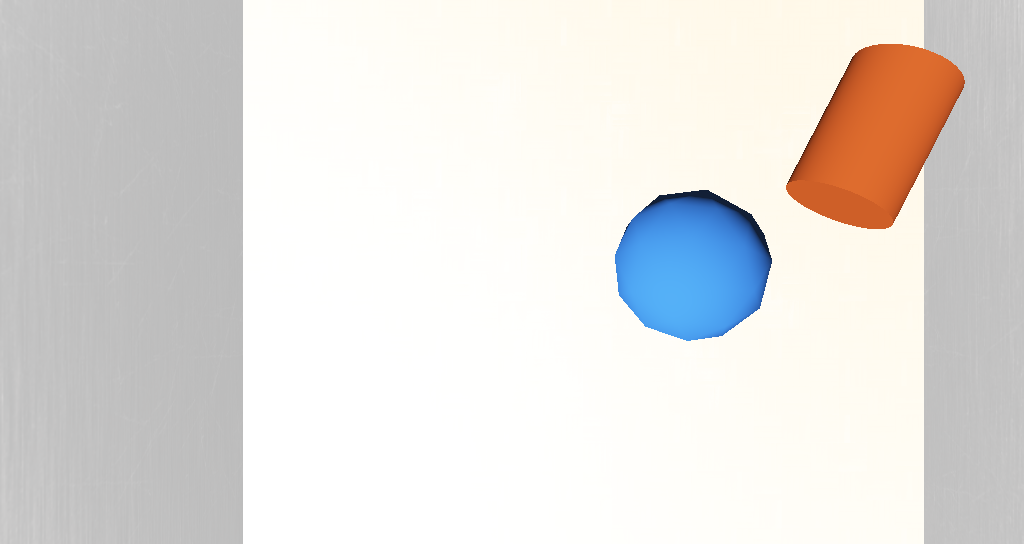cone: (586, 203, 667, 255)
cylinder: (313, 64, 414, 146)
sphere: (512, 246, 579, 289)
